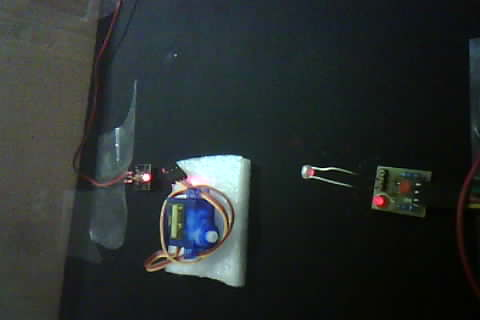motor: (144, 141, 243, 286)
